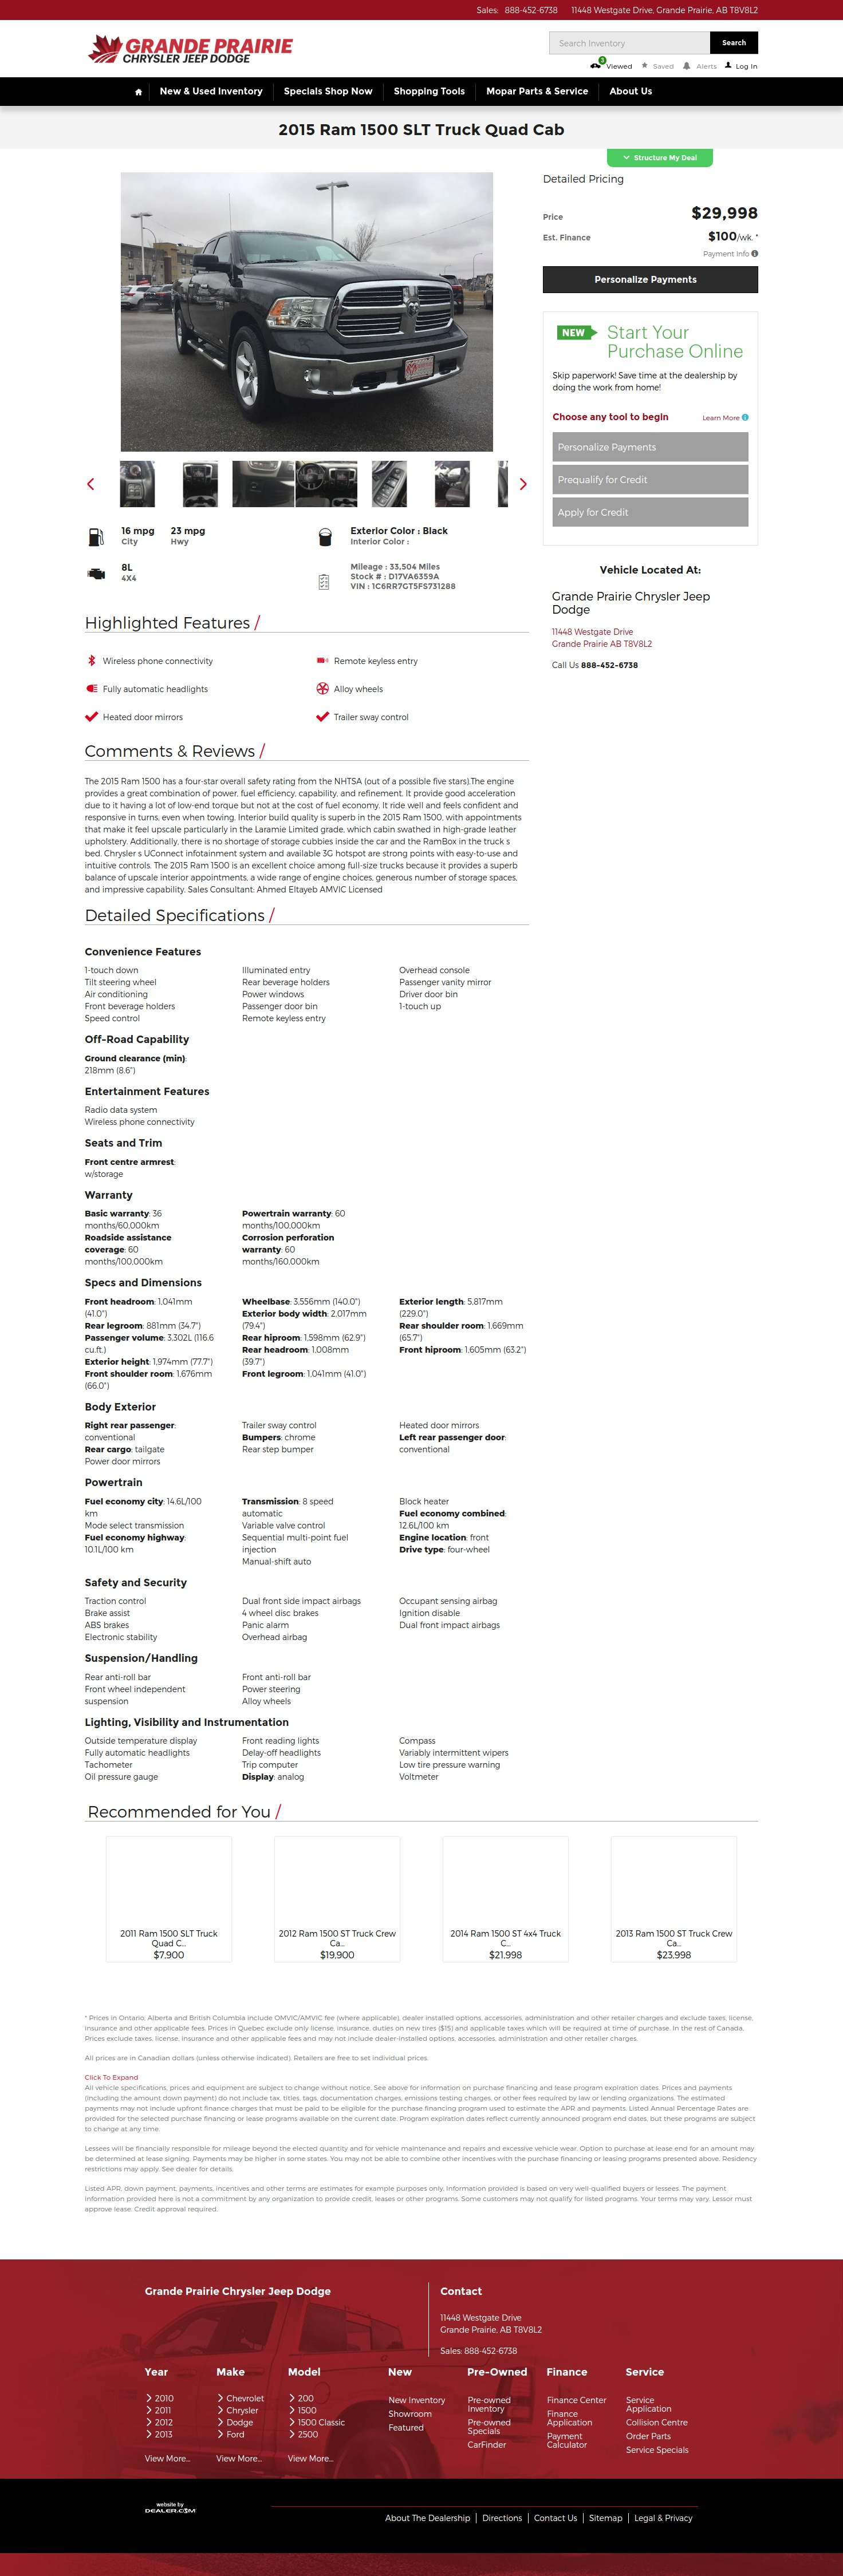car: (519, 478, 527, 491)
